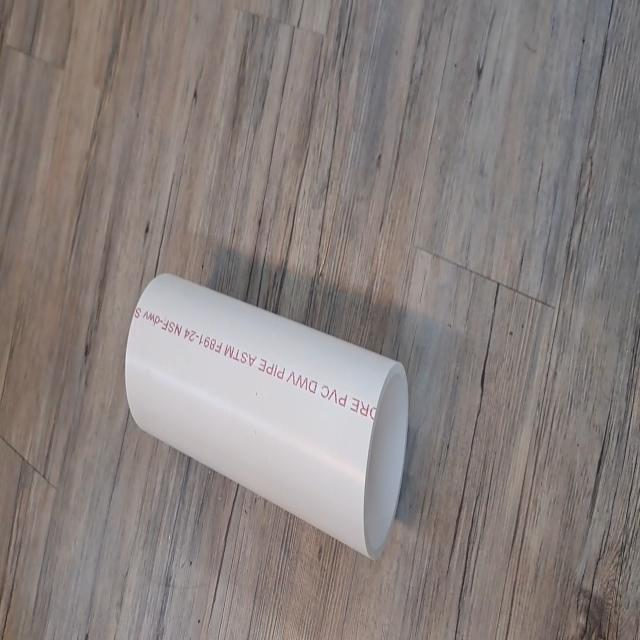CORAL: (122, 266, 413, 570)
